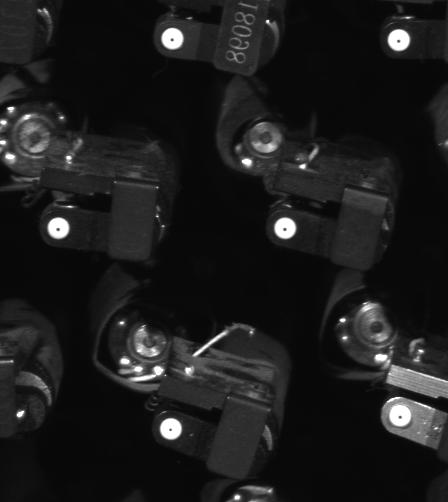fiber: (39, 211, 78, 246), (154, 413, 189, 446), (380, 25, 417, 55), (385, 399, 418, 431), (157, 23, 189, 53), (269, 214, 303, 242)
